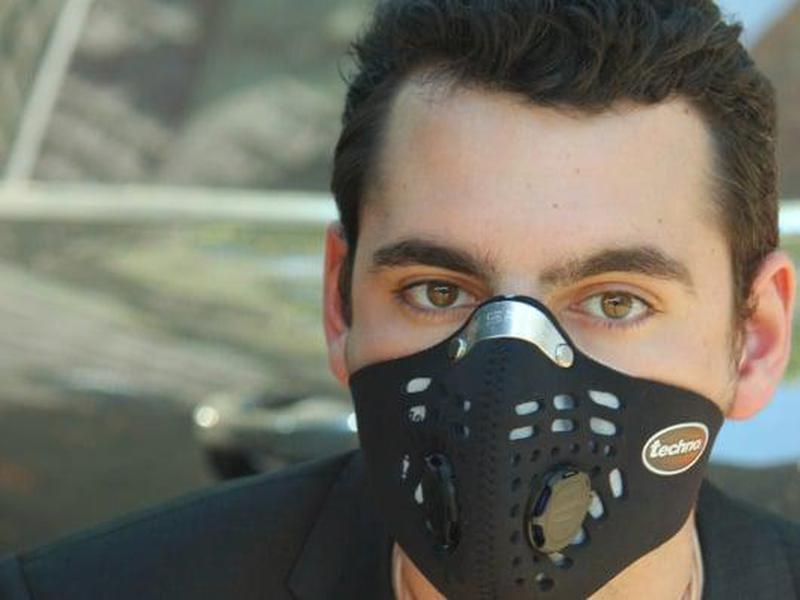with_mask: (349, 59, 739, 600)
